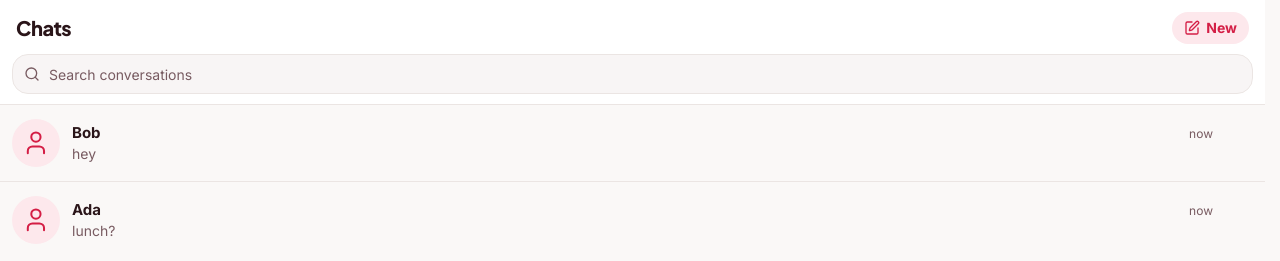
Scenario: ConversationList › filters conversations by the search query
Check: the text "Bob" is shown, box x1=72 y1=122 x2=101 y2=144
Check: the text "Ada" is shown, box x1=72 y1=199 x2=101 y2=221
Type "ada" into the search field labelled "Search conversations" at (632, 74), box x1=12 y1=54 x2=1253 y2=94
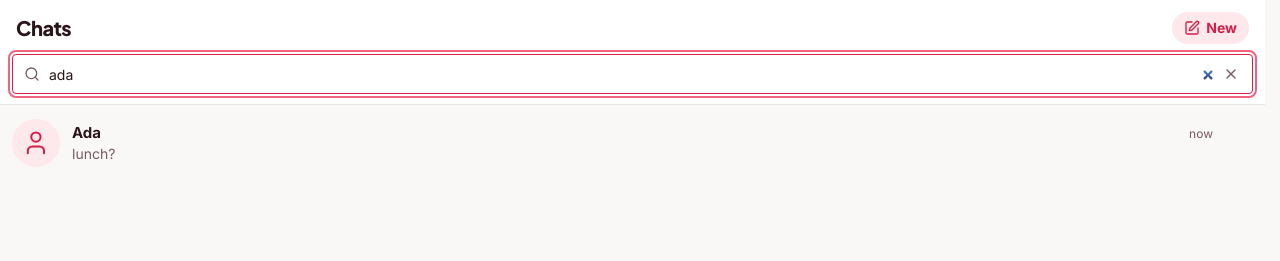
Check: the text "Ada" is shown, box x1=72 y1=122 x2=101 y2=144
Check: the link "Bob" is gone
